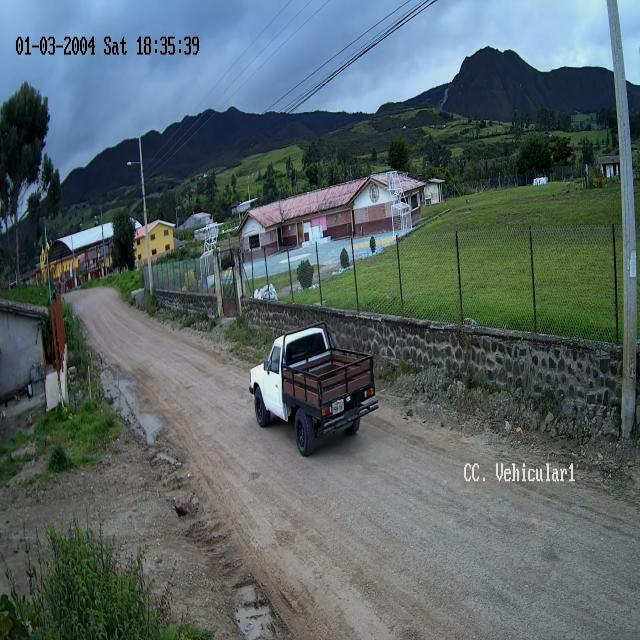CMT: (250, 328, 377, 456)
